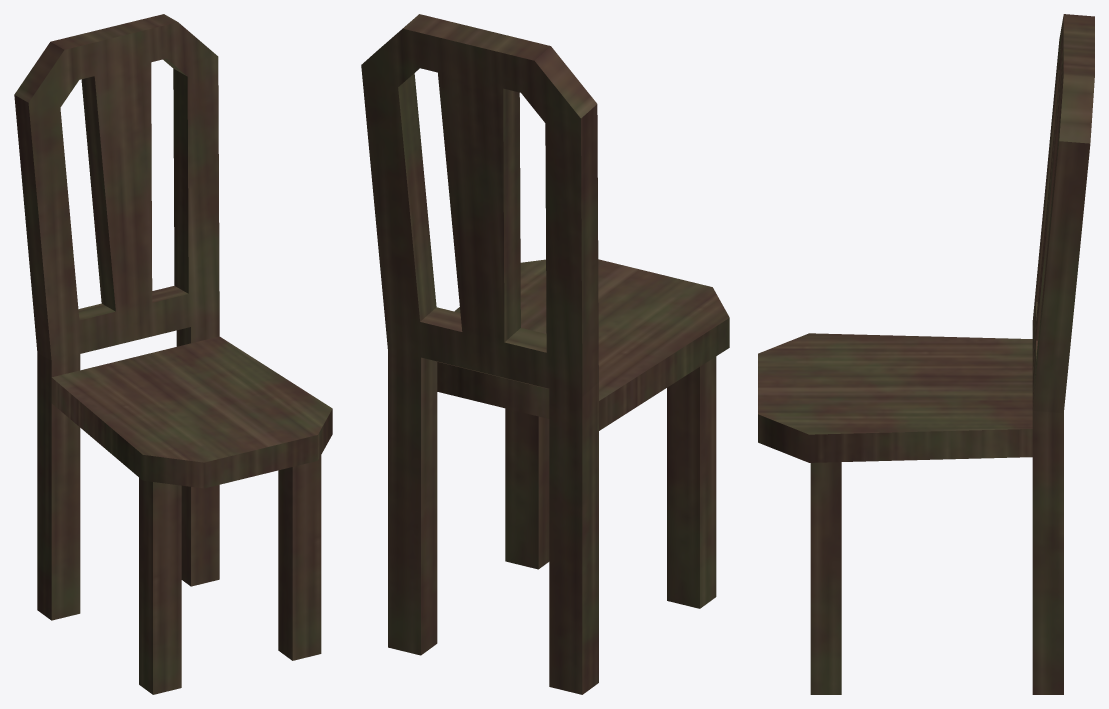
The model's file is SM_CastleChair.fbx.
3 views of the same model, side by side, from view 1: azimuth 30°, elevation 25°; view 2: azimuth 150°, elevation 25°; view 3: azimuth 270°, elevation 25° (orthographic). The views are drawn at different scales.
Visible parts, largest first — view 1: SM_CastleChair; view 2: SM_CastleChair; view 3: SM_CastleChair.
Boxes of the visible parts, left/top/right/bottom form: SM_CastleChair: left=14, top=14, right=332, bottom=694; SM_CastleChair: left=361, top=14, right=729, bottom=694; SM_CastleChair: left=758, top=14, right=1094, bottom=694.
Bounding box in the file's own units: 148 × 414 × 208.
